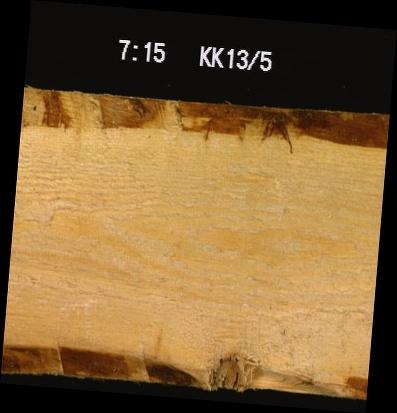wave: (22, 100, 387, 142), (2, 343, 367, 384)
